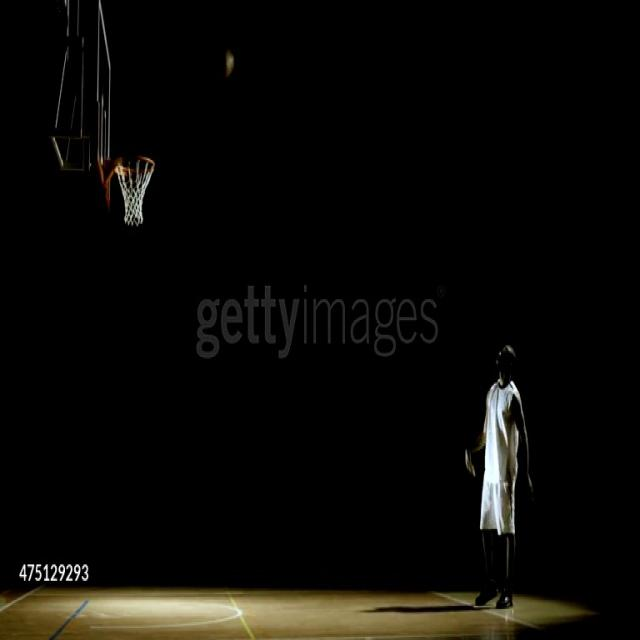ball: (217, 46, 236, 80)
